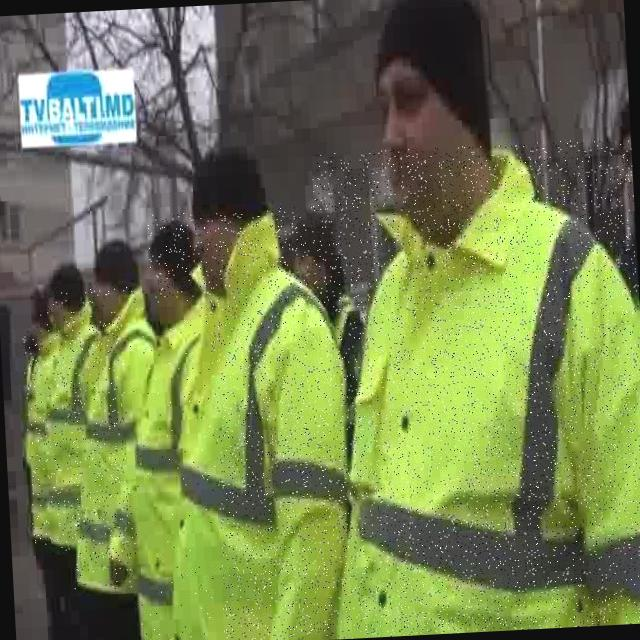no-helmet: (340, 0, 523, 233), (168, 150, 282, 302), (128, 212, 202, 324), (84, 228, 151, 326), (30, 257, 89, 335)
vest: (311, 137, 640, 639), (147, 205, 360, 640), (121, 296, 227, 640), (59, 286, 170, 592), (37, 295, 114, 552), (22, 324, 71, 546)
